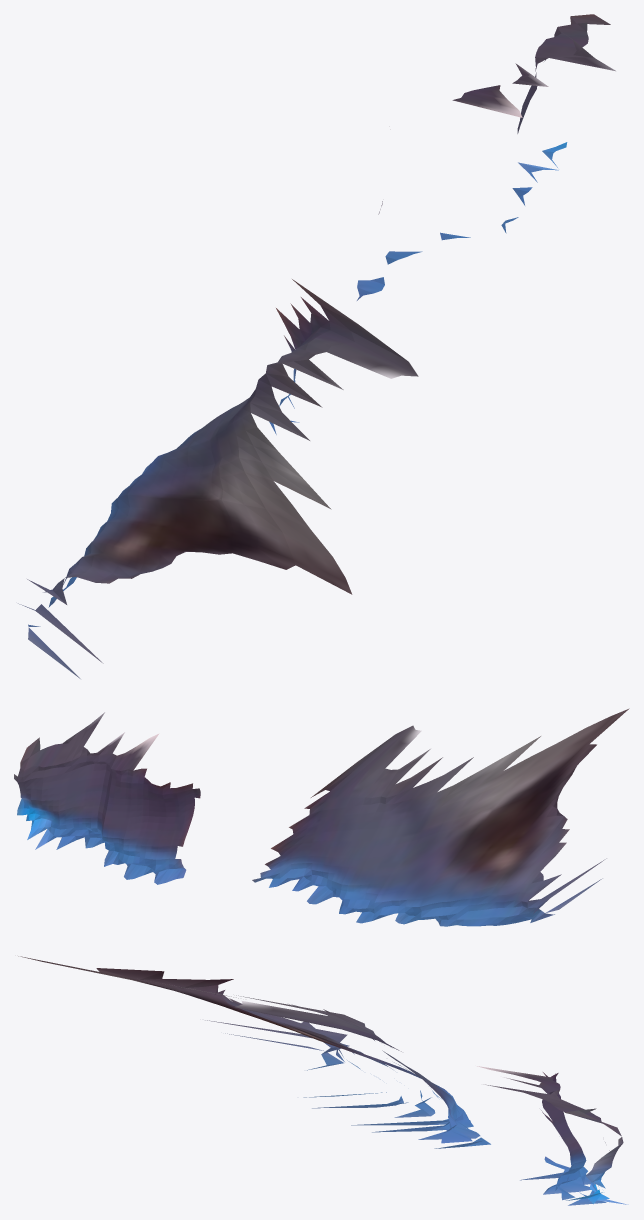
File: observed-surface.glb
The picture shows the model from 3 angles, top to bottom: view 1: azimuth 30°, elevation 25°; view 2: azimuth 150°, elevation 25°; view 3: azimuth 270°, elevation 25°; orthographic projection. The views are drawn at different scales.
Visible parts, largest first — view 1: geometry_0; view 2: geometry_0; view 3: geometry_0.
Boxes of the visible parts, <box> form: geometry_0: <box>18,14,615,678</box>; geometry_0: <box>14,708,629,926</box>; geometry_0: <box>18,956,628,1205</box>.
Bounding box in the file's own units: 0.5482 × 0.2042 × 0.5564.
1 material, 1 textured.
